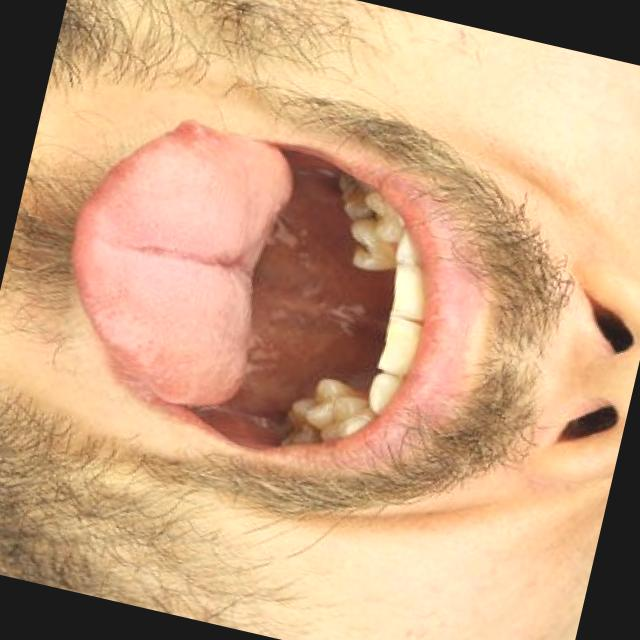No Cancer: (168, 175, 404, 453)
